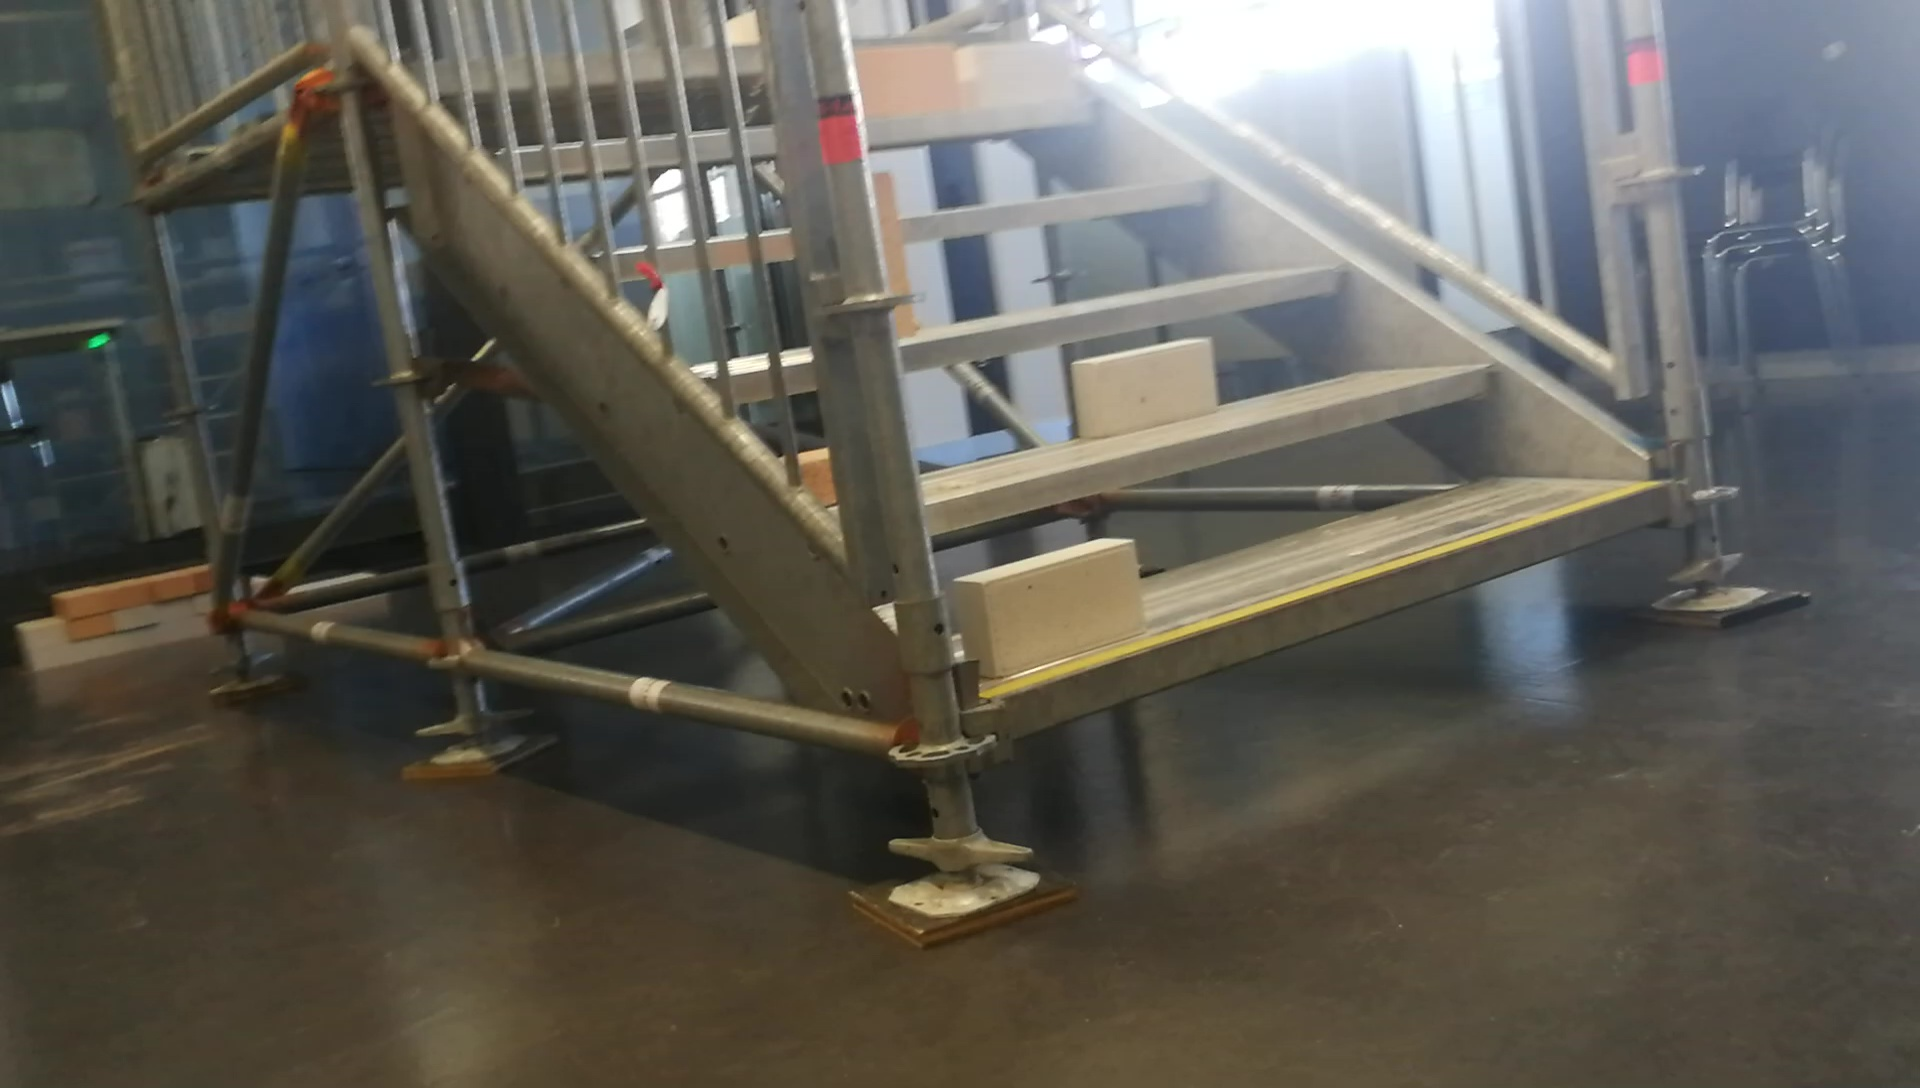brick: (953, 535, 1135, 670), (1077, 338, 1216, 435), (957, 44, 1065, 106), (856, 42, 945, 113)
edge: (1002, 483, 1668, 736)
stairs: (915, 5, 1809, 943)
